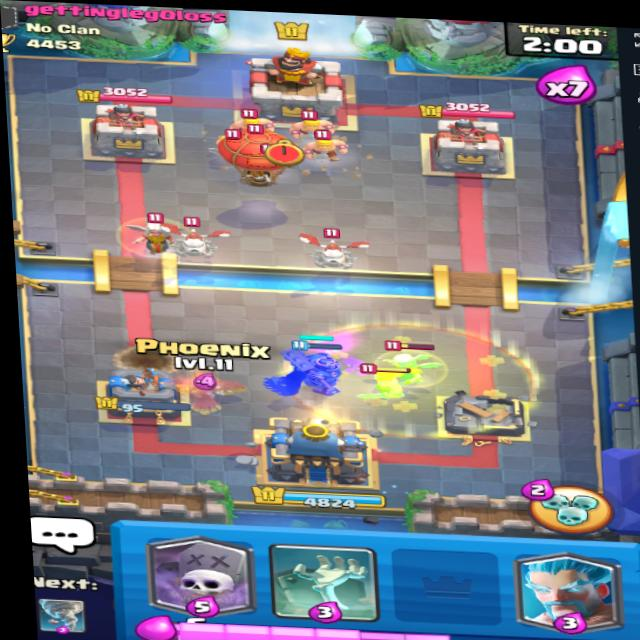Balloon: (220, 119, 300, 187)
Barbarian: (219, 102, 281, 132), (298, 132, 351, 167), (367, 365, 407, 403), (294, 112, 348, 138)
Battlehealer: (107, 209, 203, 263), (371, 338, 457, 392)
Skeletondragon: (295, 232, 375, 271), (163, 218, 232, 260)
